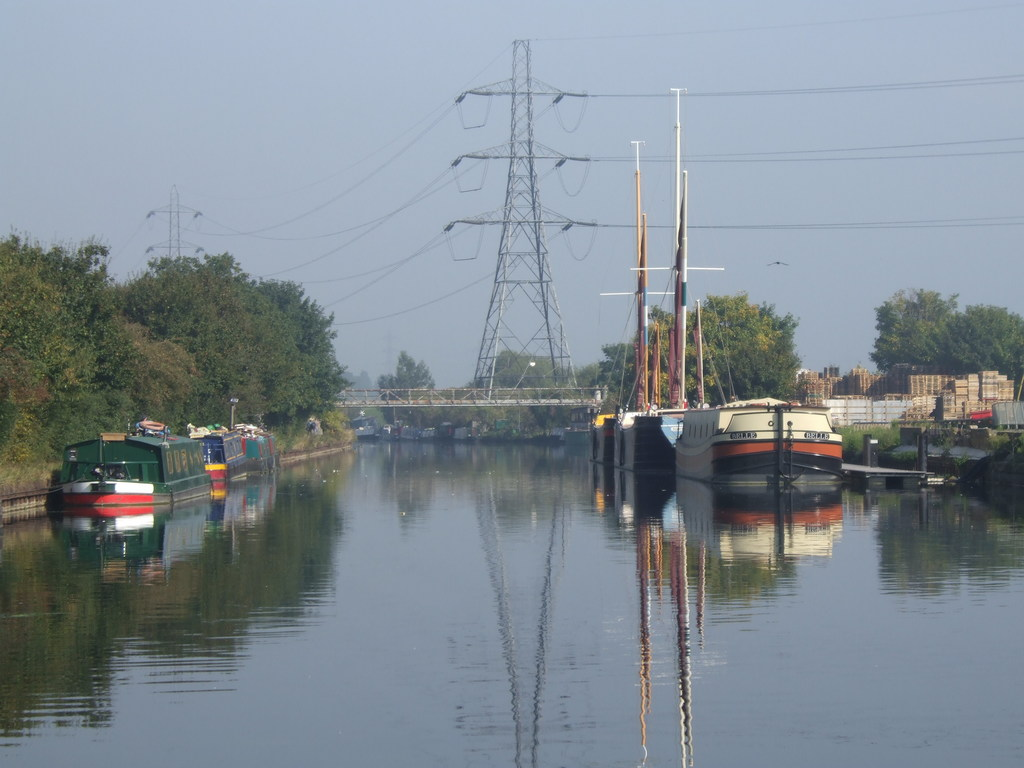boat: (606, 83, 728, 487), (37, 412, 218, 523), (666, 390, 851, 498)
